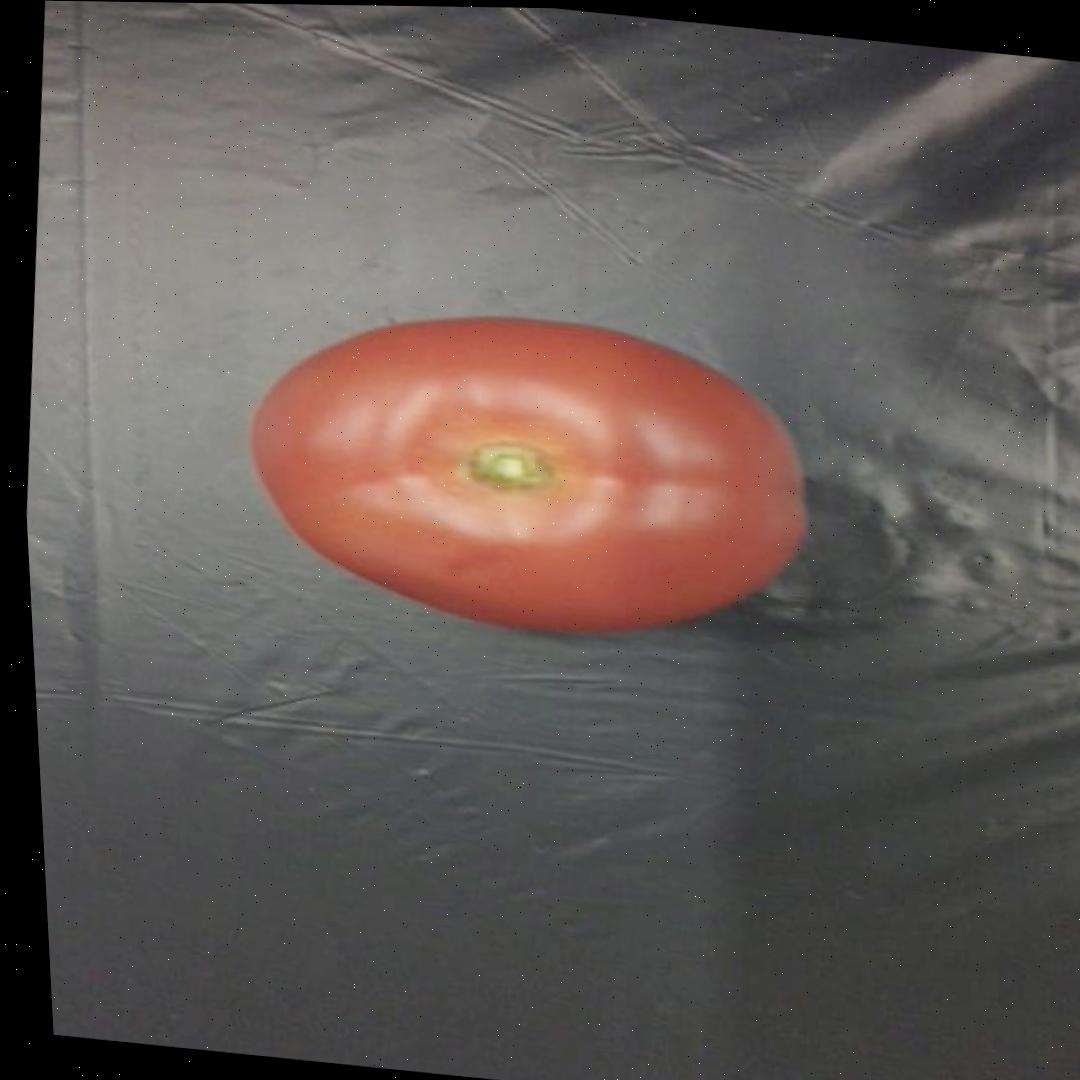matang: (233, 287, 833, 655)
